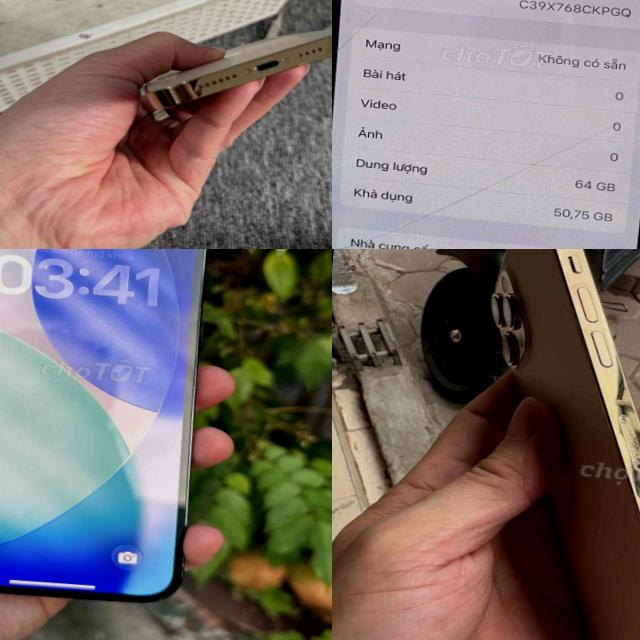gen_12_13: (434, 249, 640, 640), (0, 249, 216, 616), (132, 3, 332, 153)
gen_x_xs: (332, 0, 640, 249)
physical_damage: (332, 0, 640, 249)
